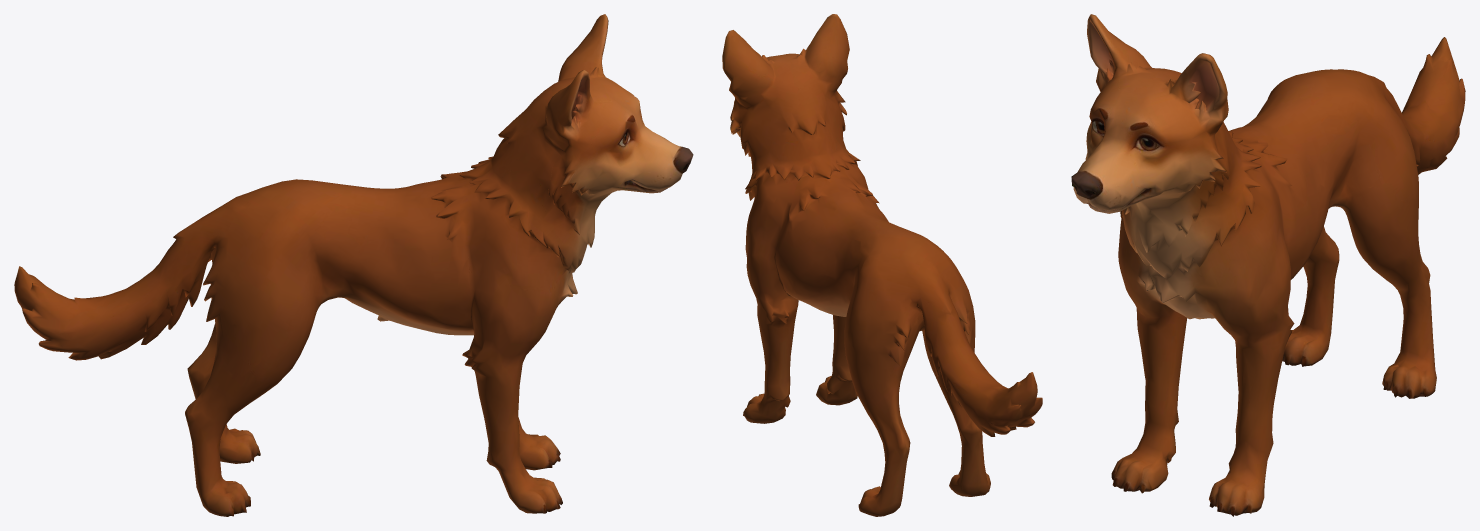
The model's file is dog.glb.
The picture shows the model from 3 angles, left to right: view 1: azimuth 30°, elevation 25°; view 2: azimuth 150°, elevation 25°; view 3: azimuth 270°, elevation 25°; orthographic projection. The views are drawn at different scales.
Parts seen in each view (by area): view 1: tripo_node_1db3c830-89f9-4049-b605-b8e50ed07792; view 2: tripo_node_1db3c830-89f9-4049-b605-b8e50ed07792; view 3: tripo_node_1db3c830-89f9-4049-b605-b8e50ed07792.
Part boxes in pixels (box(x1,y1,x2,y2)): tripo_node_1db3c830-89f9-4049-b605-b8e50ed07792: box(14, 14, 693, 516); tripo_node_1db3c830-89f9-4049-b605-b8e50ed07792: box(722, 14, 1042, 516); tripo_node_1db3c830-89f9-4049-b605-b8e50ed07792: box(1071, 14, 1465, 516).
Bounding box in the file's own units: 1 × 0.8285 × 0.6121.
Materials: 1 (1 with a texture image).
